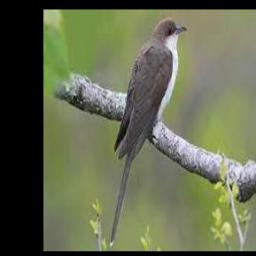Cuckoo: (109, 18, 186, 246)
